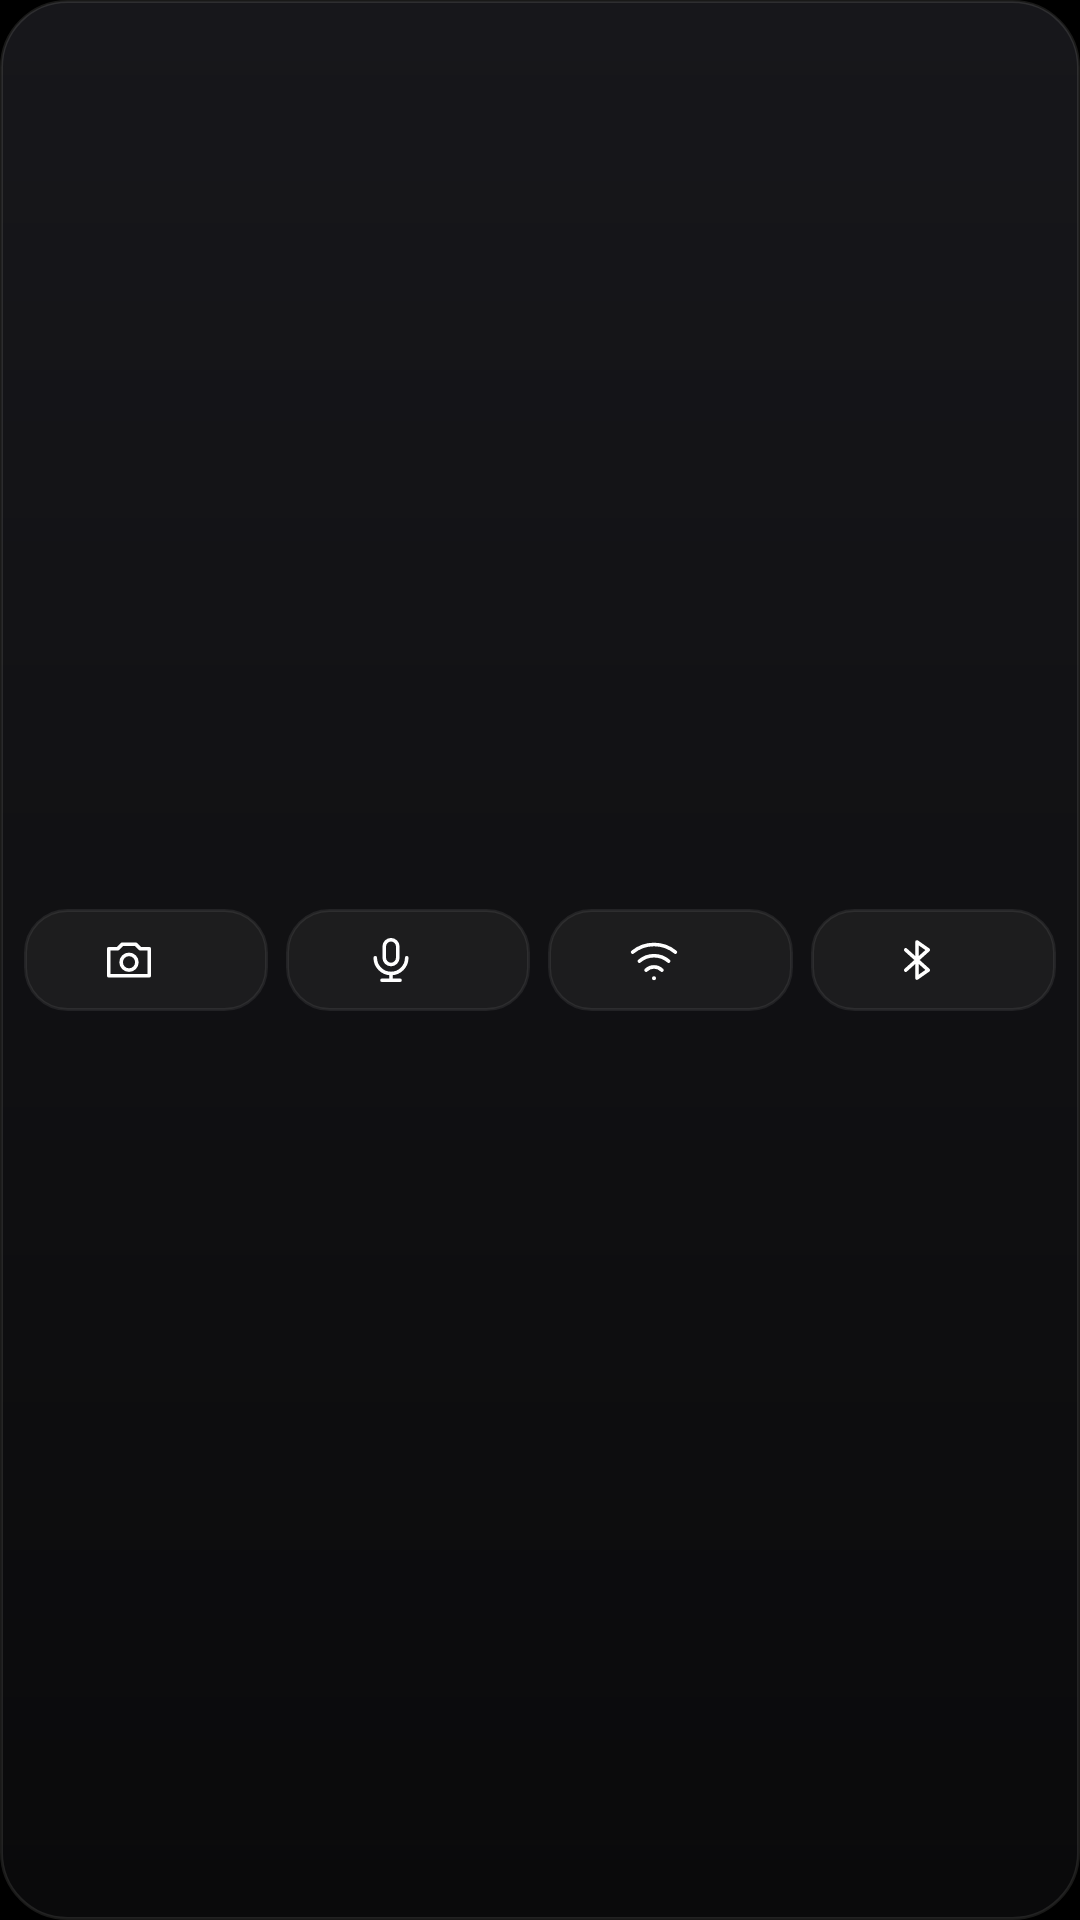

Icon bounding boxes for this 1080 × 1920 phone screenshot, format (left=x1, top=y1, right=x2, bottom=y2):
camera: (left=107, top=942, right=151, bottom=978)
microphone: (left=373, top=938, right=409, bottom=982)
wifi: (left=631, top=942, right=677, bottom=980)
